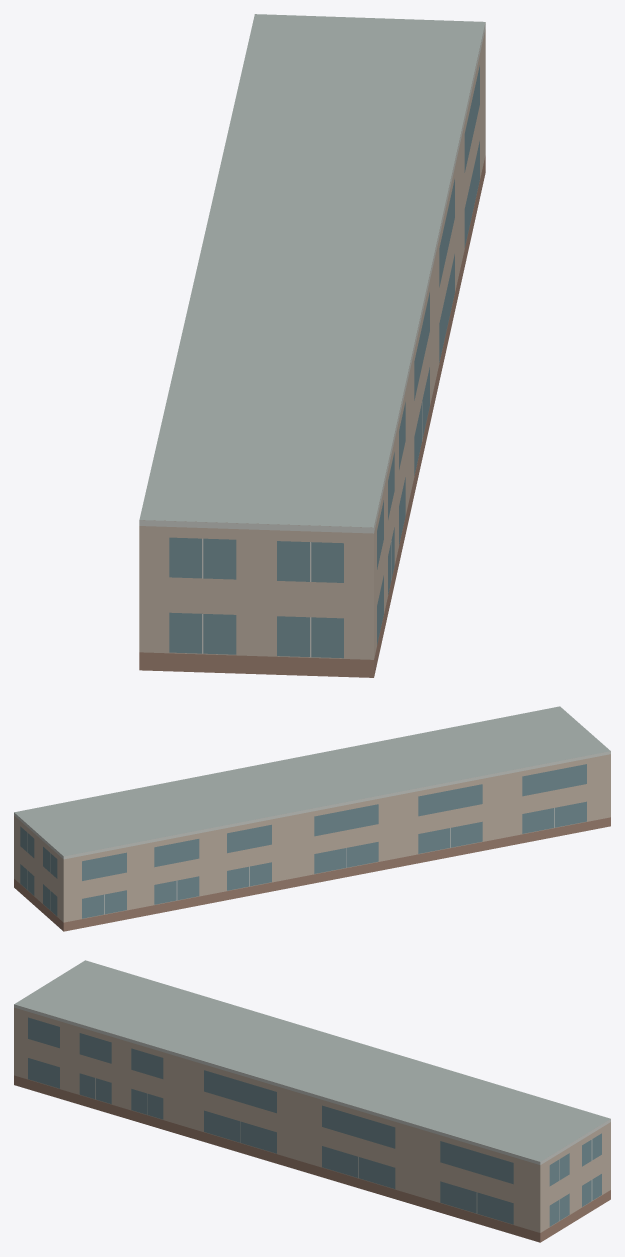
Rendered from survey-upis-32570083.glb.
The picture shows the model from 3 angles, top to bottom: view 1: azimuth 30°, elevation 25°; view 2: azimuth 150°, elevation 25°; view 3: azimuth 270°, elevation 25°; orthographic projection. The views are drawn at different scales.
Parts seen in each view (by area): view 1: survey-upis-32570083.tmp; view 2: survey-upis-32570083.tmp; view 3: survey-upis-32570083.tmp.
Part boxes in pixels (x1,y1,x2,y2): survey-upis-32570083.tmp: [139, 14, 485, 677]; survey-upis-32570083.tmp: [14, 706, 610, 931]; survey-upis-32570083.tmp: [14, 960, 610, 1242].
Bounding box in the file's own units: 32.7 × 6.1 × 40.88.
